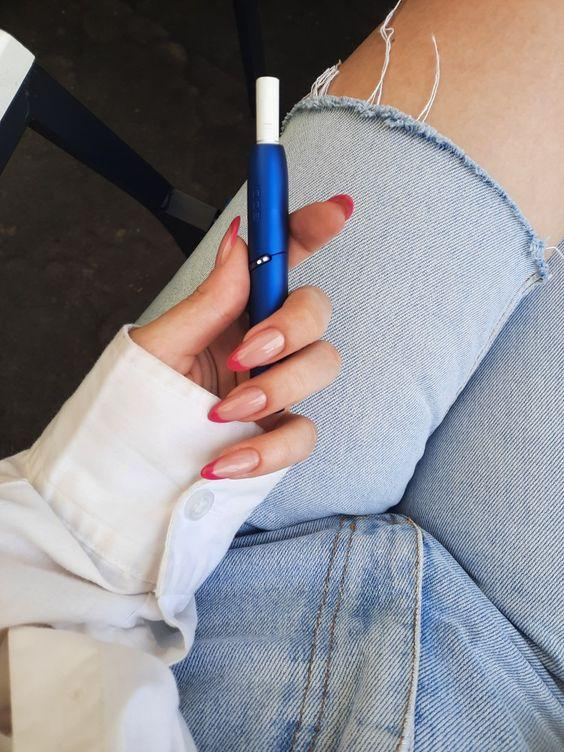iqos: (247, 76, 288, 326)
